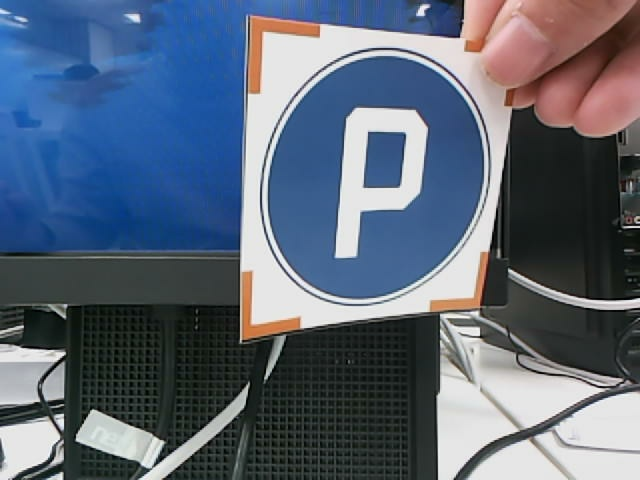park: (259, 47, 492, 307)
